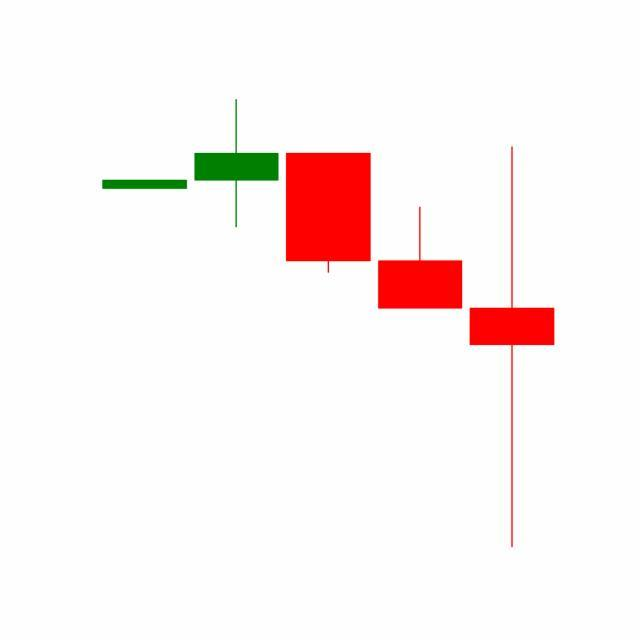Spinning Top: (466, 142, 559, 552)
